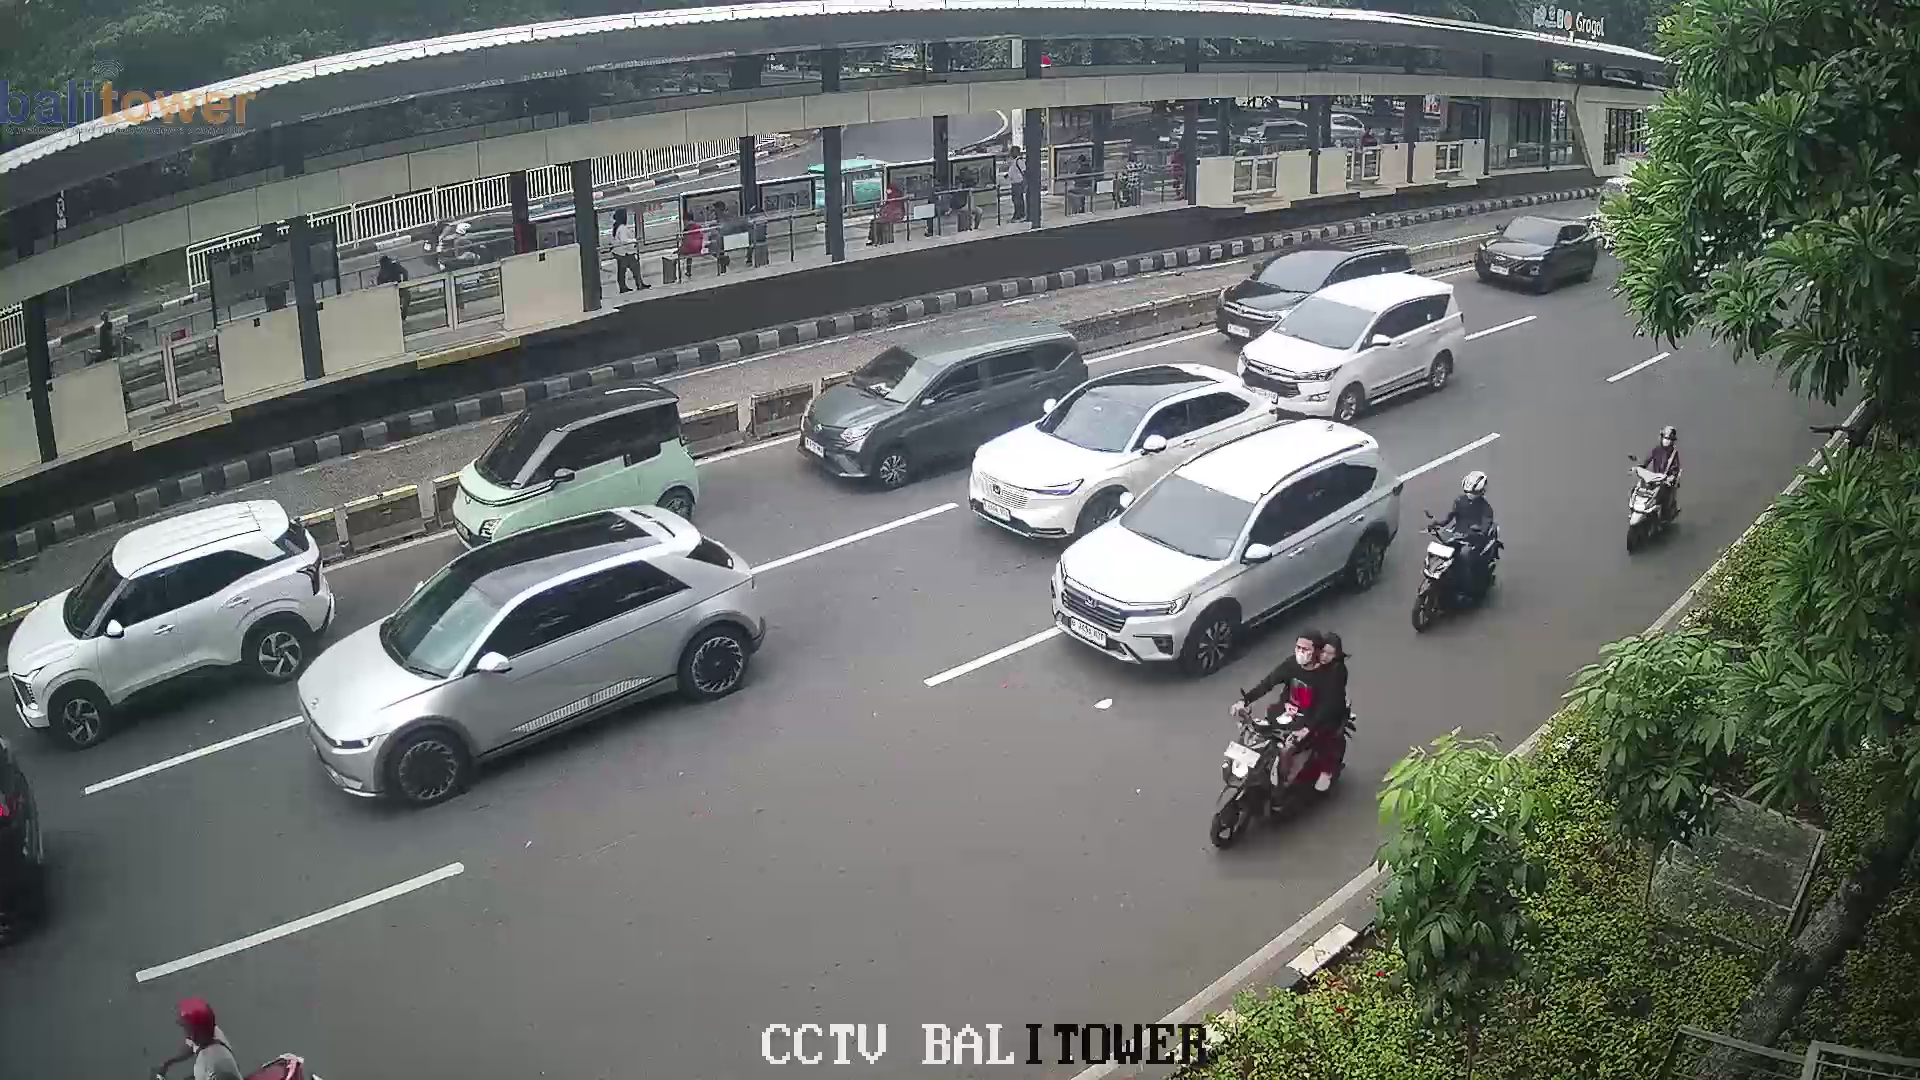half-face helmet: (165, 990, 235, 1063), (1461, 465, 1494, 514), (1655, 420, 1684, 453)
no helmet: (1315, 626, 1349, 669), (1290, 626, 1321, 669)
